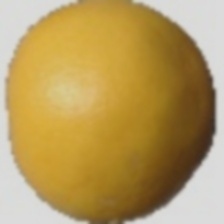grapes: (23, 44, 183, 211)
